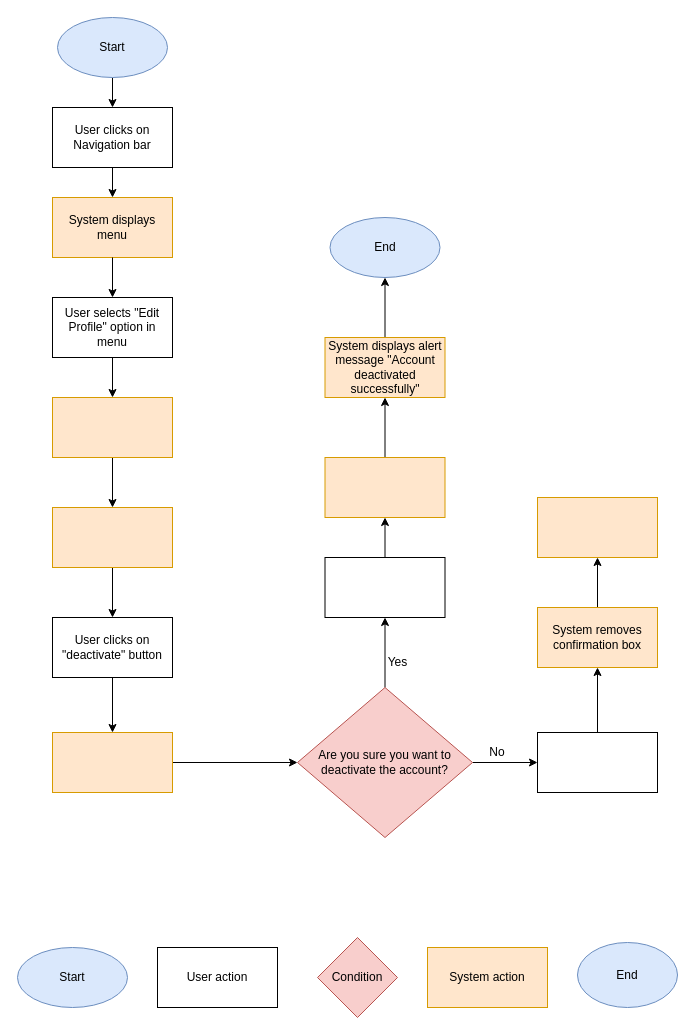
Some shapes in this 695 by 1035 pixel diagram are drawn without their labels. Each missing label, with the box of its shape:
System deactivates the account: (324, 456, 445, 518)
System displays "Deactivation" button: (52, 506, 172, 568)
System displays "Edit Profile" page: (52, 396, 172, 458)
System displays confirmation box: (52, 732, 172, 792)
System displays Profile page: (536, 496, 658, 558)
User clicks on "cancel" button: (536, 732, 658, 792)
User clicks on "confirm" button: (324, 556, 445, 618)
